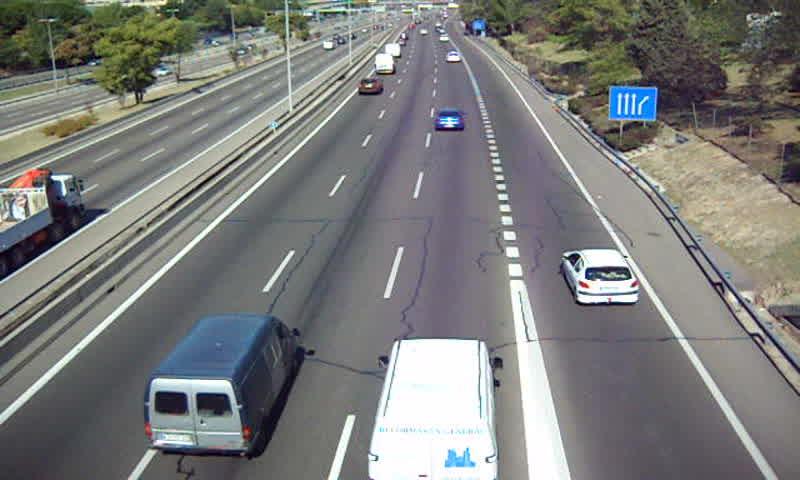car: (561, 248, 641, 307), (432, 108, 467, 132), (358, 77, 382, 95)
van: (142, 315, 297, 457), (368, 340, 499, 480), (373, 53, 396, 75)
